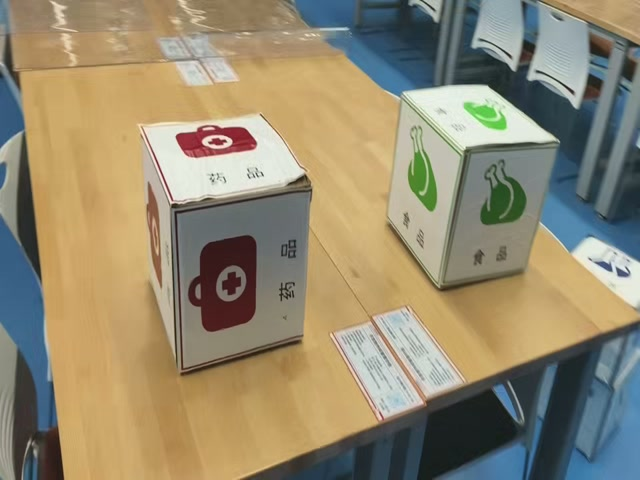Cube_food: (398, 85, 550, 156)
Cube_ins: (569, 236, 640, 312)
Cube_medicine: (143, 112, 314, 208)
